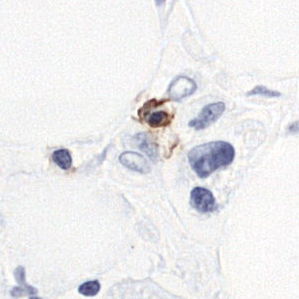Lymphocyte: (137, 98, 175, 127)
